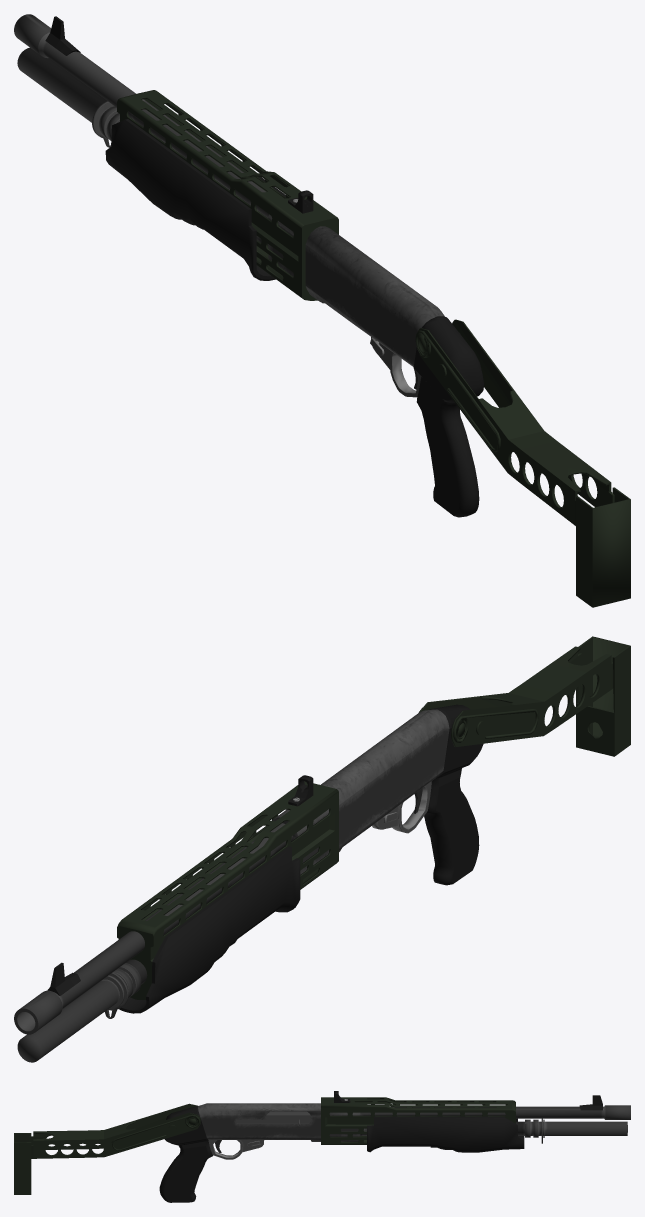
Rendered from spas12.glb.
3 views of the same model, one above another, from view 1: azimuth 30°, elevation 25°; view 2: azimuth 150°, elevation 25°; view 3: azimuth 270°, elevation 25° (orthographic). The views are drawn at different scales.
Parts seen in each view (by area): view 1: defaultMaterial, defaultMaterial.001; view 2: defaultMaterial, defaultMaterial.001; view 3: defaultMaterial, defaultMaterial.001.
Boxes of the visible parts, x1,y1,x2,y2 form: defaultMaterial: (14,14,484,517); defaultMaterial.001: (117,90,630,607); defaultMaterial: (14,704,483,1062); defaultMaterial.001: (117,636,630,999); defaultMaterial: (159,1091,630,1202); defaultMaterial.001: (14,1097,515,1194).
Bounding box in the file's own units: 0.0498 × 0.1941 × 1.
Materials: 2 (1 with a texture image).
